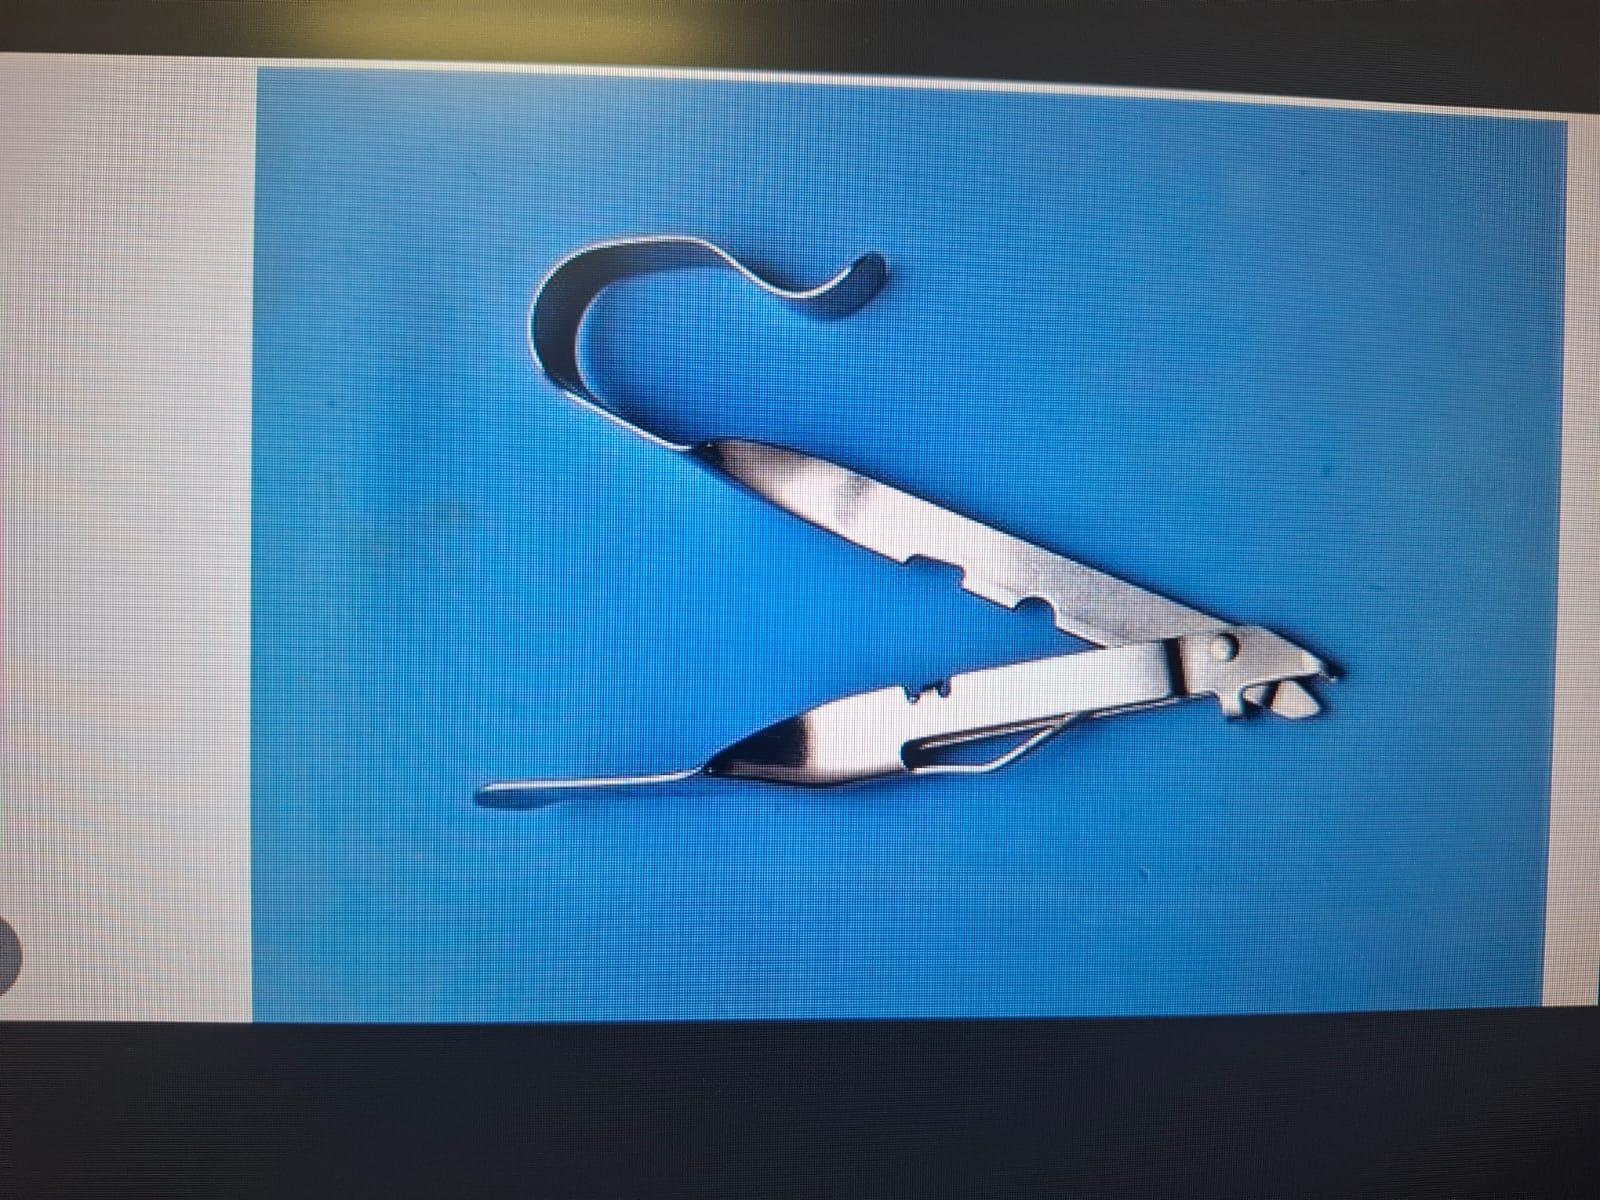Stapler Remover: (459, 221, 1352, 824)
